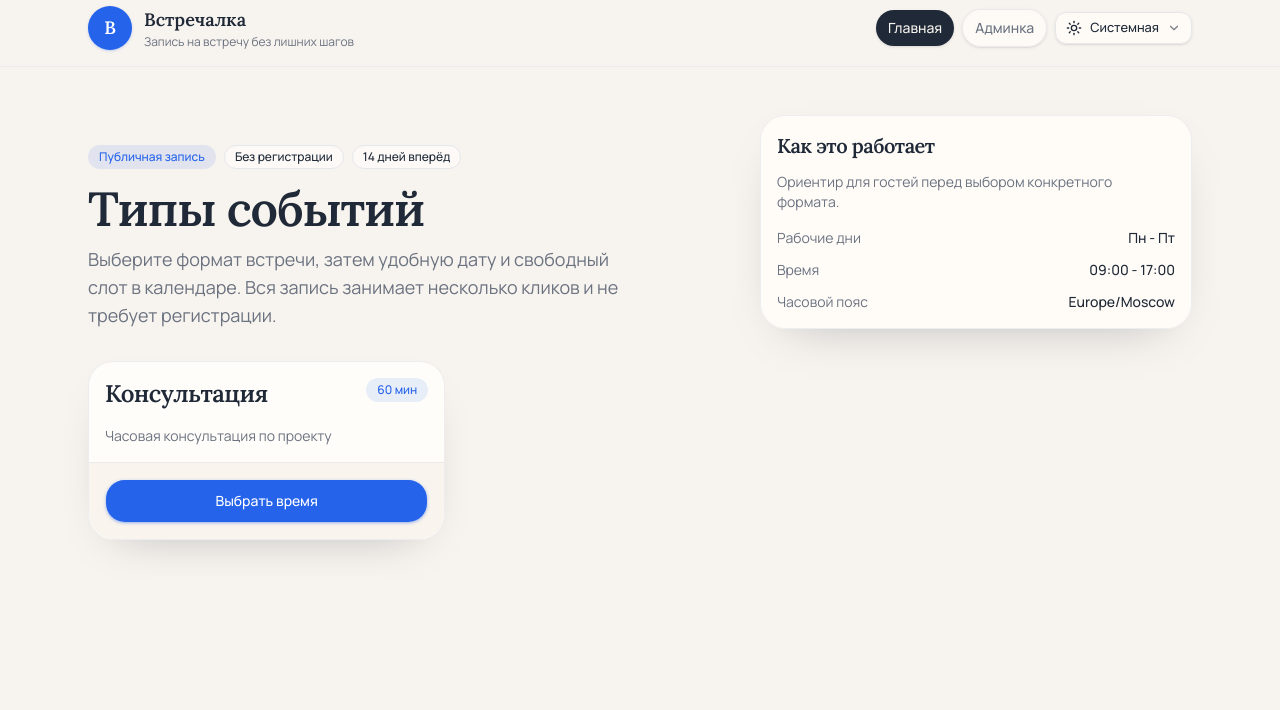
booking flow integration › goes from event type list to booking confirmation
Click the button "Выбрать время".
click(267, 501)  # box left=105, top=479, right=428, bottom=523
(page scrolled)
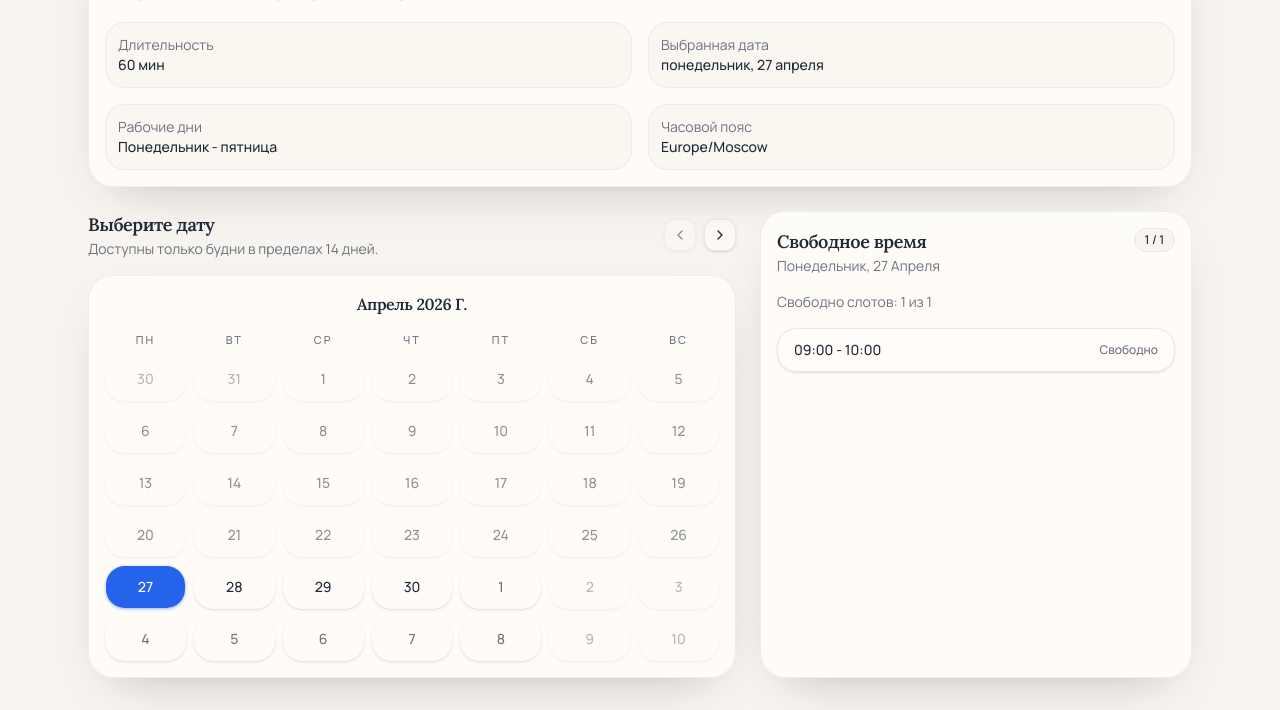
Click the button with aria-label "выбрать слот 09:00 - 10:00".
click(838, 350)  # box left=777, top=328, right=1175, bottom=372
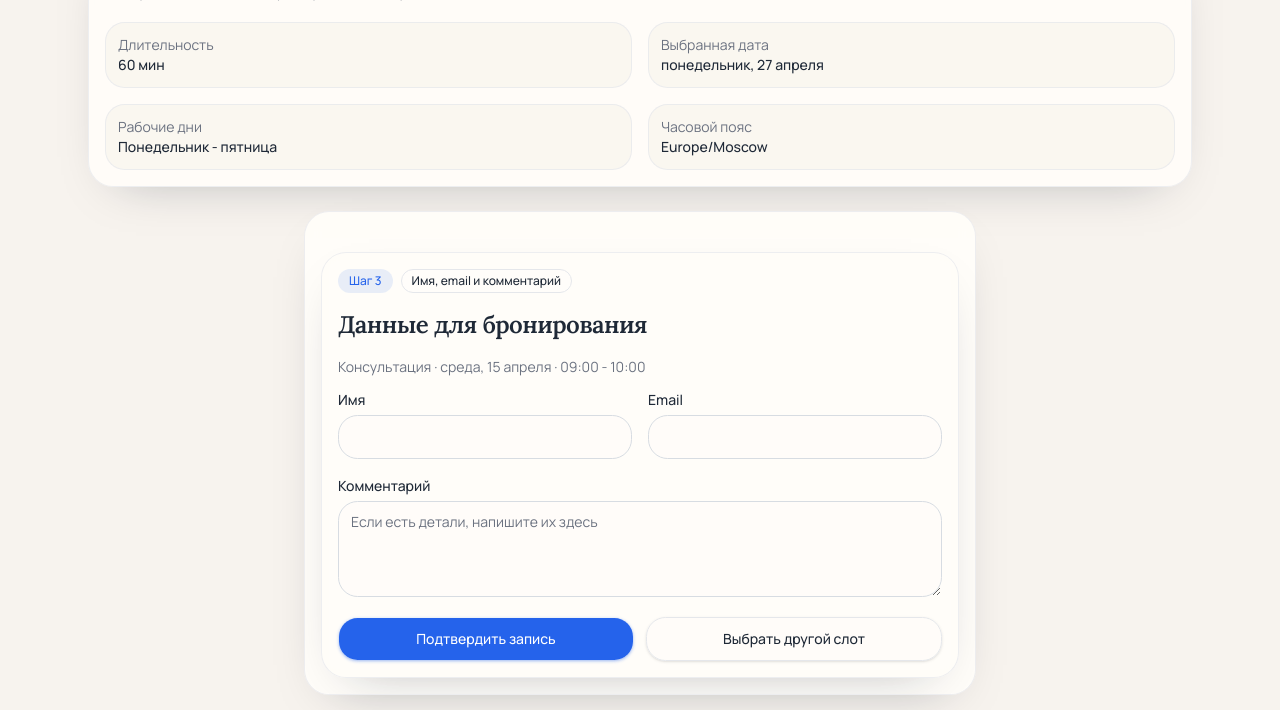
Type "Иван Петров" into the field labelled "Имя".
click(485, 437); type("Иван Петров")  # box left=338, top=415, right=632, bottom=459
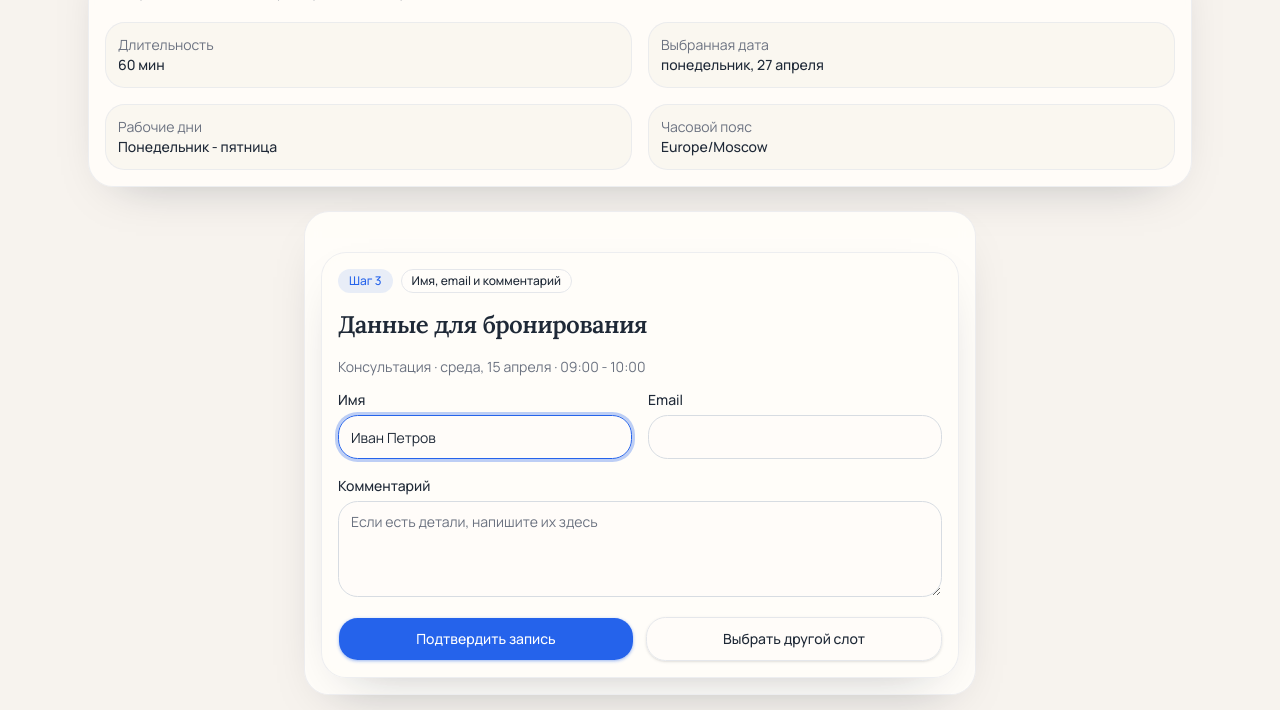
Type "ivan@example.com" into the field labelled "Email".
click(795, 437); type("ivan@example.com")  # box left=648, top=415, right=942, bottom=459
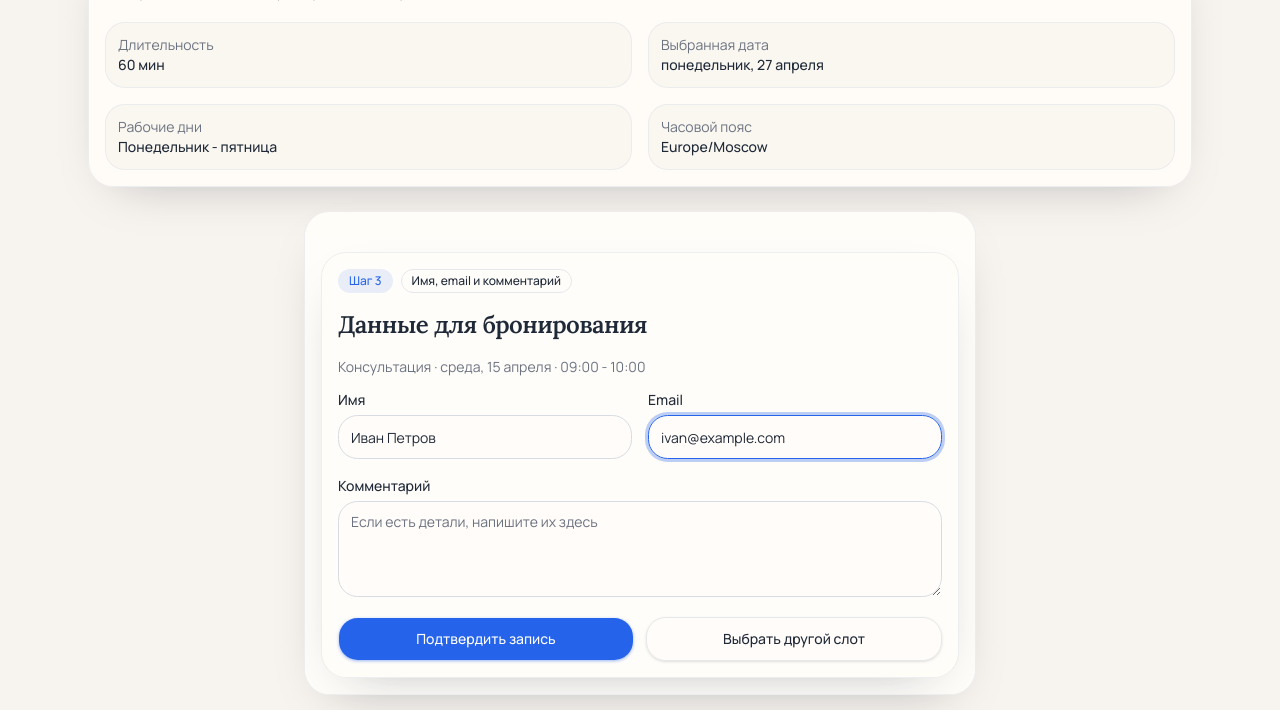
Type "Нужно обсудить интеграцию" into the text box labelled "Комментарий".
click(640, 549); type("Нужно обсудить интеграцию")  # box left=338, top=501, right=942, bottom=597
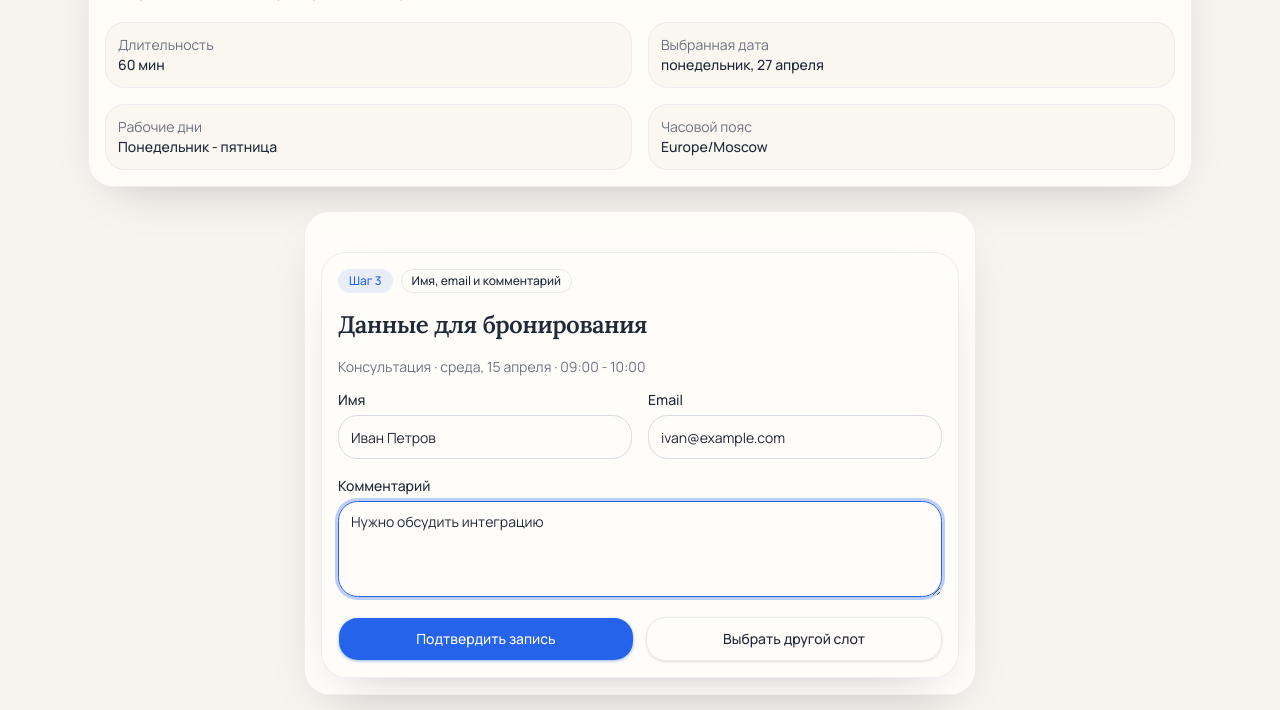
Click the button "Подтвердить запись".
click(486, 639)  # box left=338, top=617, right=634, bottom=661
(page scrolled)
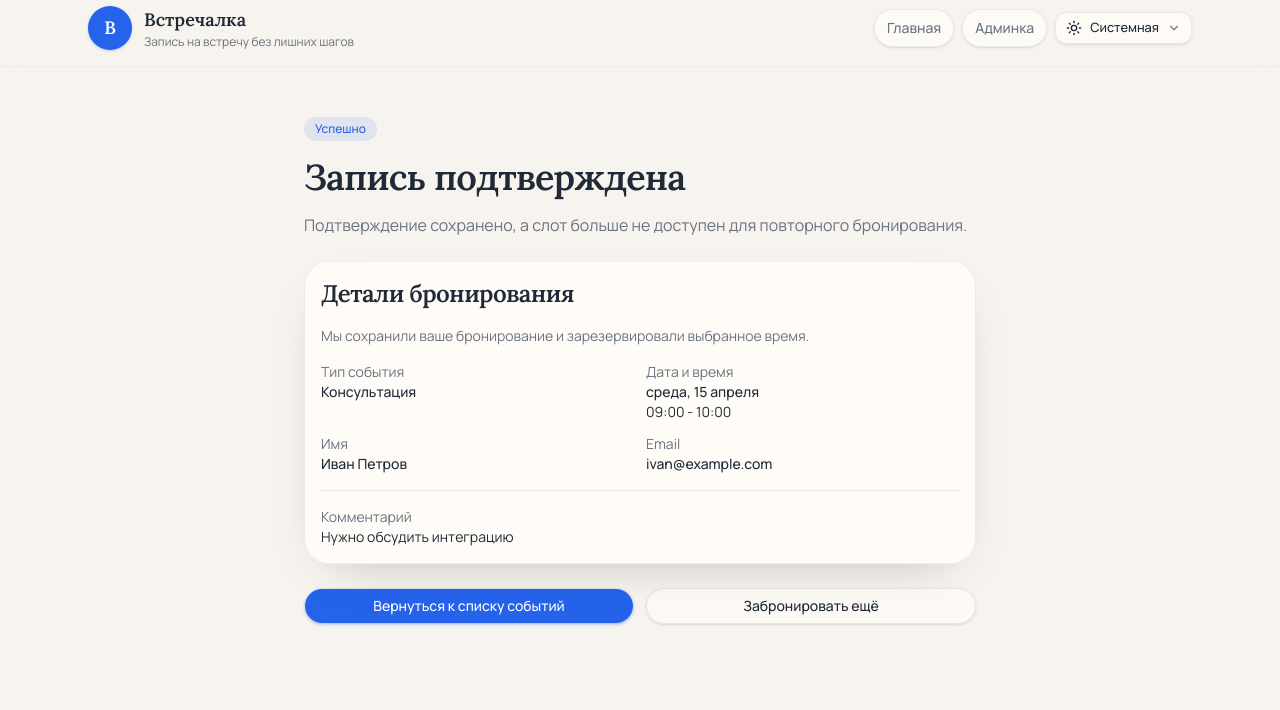
Expected: the heading "Запись подтверждена" is shown, left=304, top=154, right=685, bottom=200
Expected: the text "Иван Петров" is shown, left=321, top=454, right=407, bottom=473
